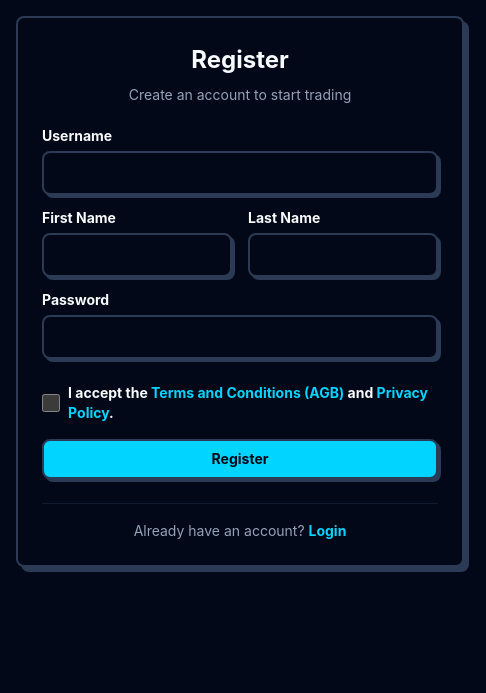
Scenario: RegisterPage › shows validation errors when fields are empty or invalid
This screenshot has width=486, height=693.
What coordinates should you click on to do the following:
click the button with test id "register-submit"
I would click on:
 (240, 459)
Its box is top-left (42, 439), bottom-right (438, 479).
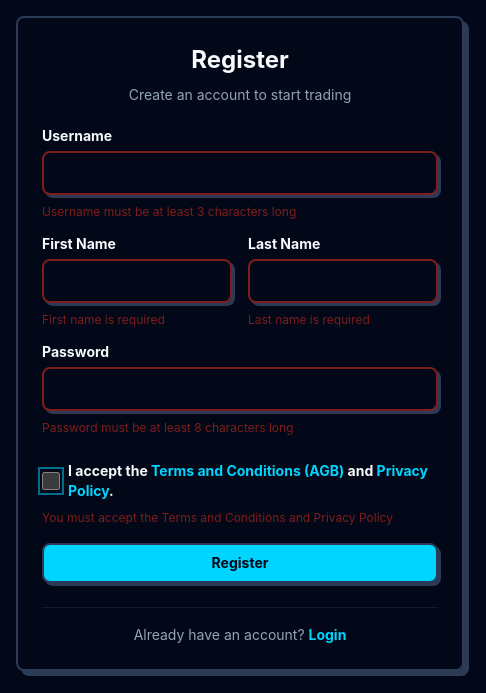
Result: the number of elements with test id "field-error" is 5 at top-left (42, 204), bottom-right (296, 219); top-left (42, 312), bottom-right (165, 327); top-left (248, 312), bottom-right (370, 327); top-left (42, 420), bottom-right (294, 435); top-left (42, 509), bottom-right (438, 527)
Result: the text with test id "field-error" reads "Username must be at least 3 characters long" at top-left (42, 204), bottom-right (296, 219)
Result: the text with test id "field-error" reads "First name is required" at top-left (42, 312), bottom-right (165, 327)
